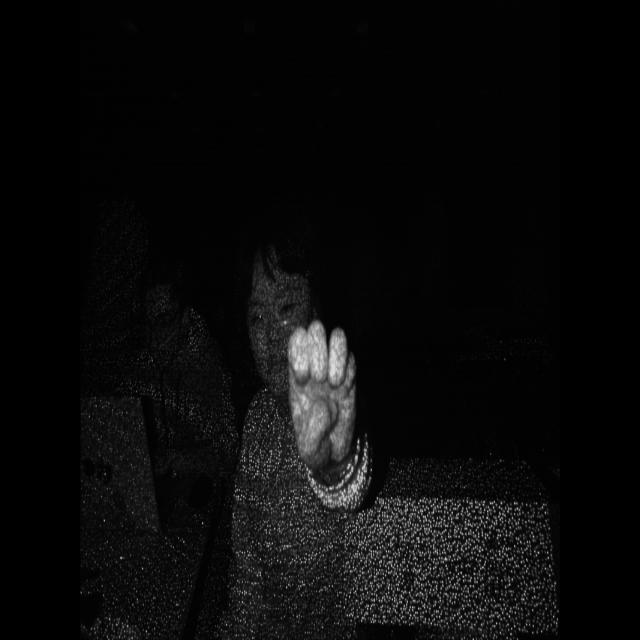E: (278, 293, 372, 496)
